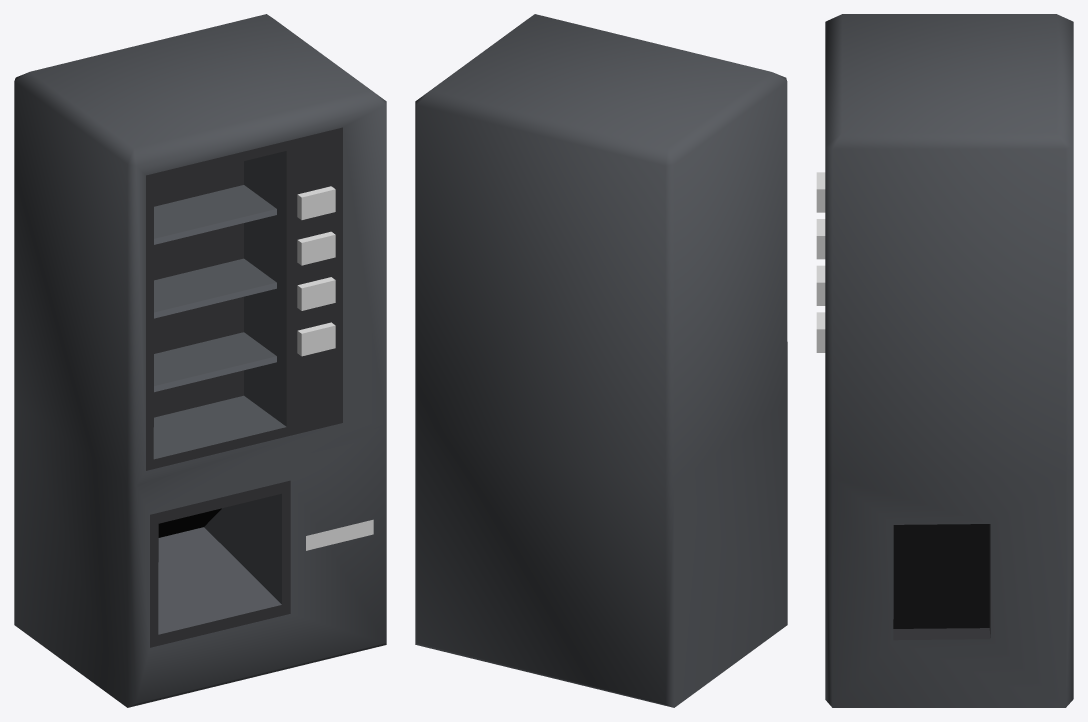
File: CigaretteMachine.glb
3 renders of one model, left to right at view 1: azimuth 30°, elevation 25°; view 2: azimuth 150°, elevation 25°; view 3: azimuth 270°, elevation 25°, orthographic. The views are drawn at different scales.
Parts seen in each view (by area): view 1: CigaretteMachine; view 2: CigaretteMachine; view 3: CigaretteMachine.
Boxes of the visible parts, x1=… form: CigaretteMachine: x1=14, y1=14, x2=386, y2=707; CigaretteMachine: x1=415, y1=14, x2=787, y2=707; CigaretteMachine: x1=816, y1=14, x2=1073, y2=707.
Bounding box in the file's own units: 0.8857 × 1.8 × 0.736.
2 materials, 1 textured.
